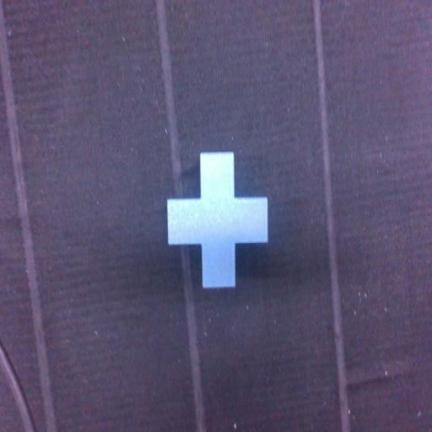cross: (168, 152, 267, 287)
